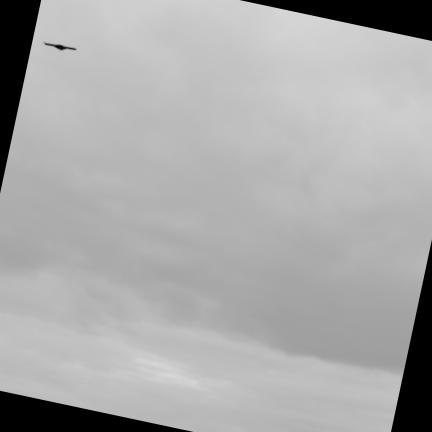Shahed: (44, 42, 76, 51)
